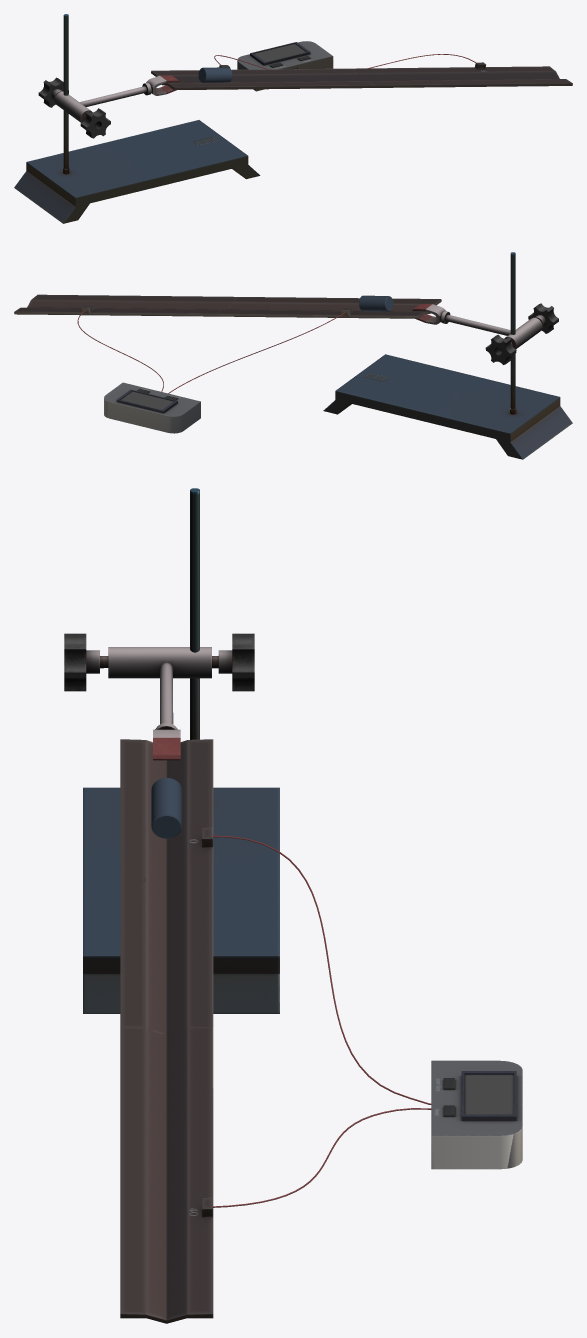
The model's file is Lab-works_unity.fbx.
The picture shows the model from 3 angles, top to bottom: view 1: azimuth 30°, elevation 25°; view 2: azimuth 150°, elevation 25°; view 3: azimuth 270°, elevation 25°; orthographic projection. The views are drawn at different scales.
Visible parts, largest first — view 1: shtativ_low, Derjatel_low.001, Derjatel_low, Secundomer_low, cylinder; view 2: shtativ_low, Derjatel_low.001, Secundomer_low, Derjatel_low, cylinder, wires; view 3: Derjatel_low.001, shtativ_low, Secundomer_low, Derjatel_low, cylinder, wires.
Boxes of the visible parts, left/top/right/bottom form: shtativ_low: left=14, top=14, right=260, bottom=223; Derjatel_low.001: left=146, top=62, right=572, bottom=95; Derjatel_low: left=38, top=77, right=151, bottom=138; Secundomer_low: left=237, top=41, right=333, bottom=91; cylinder: left=198, top=67, right=232, bottom=82; shtativ_low: left=323, top=252, right=572, bottom=459; Derjatel_low.001: left=14, top=294, right=446, bottom=324; Secundomer_low: left=104, top=382, right=200, bottom=433; Derjatel_low: left=441, top=303, right=558, bottom=364; cylinder: left=359, top=295, right=393, bottom=311; wires: left=77, top=310, right=345, bottom=393; Derjatel_low.001: left=120, top=729, right=213, bottom=1323; shtativ_low: left=83, top=488, right=279, bottom=1013; Secundomer_low: left=431, top=1060, right=522, bottom=1169; Derjatel_low: left=64, top=633, right=254, bottom=729; cylinder: left=151, top=778, right=181, bottom=838; wires: left=213, top=835, right=431, bottom=1207.
Size of the model in its own units: 76.32 by 25.39 by 29.2.
